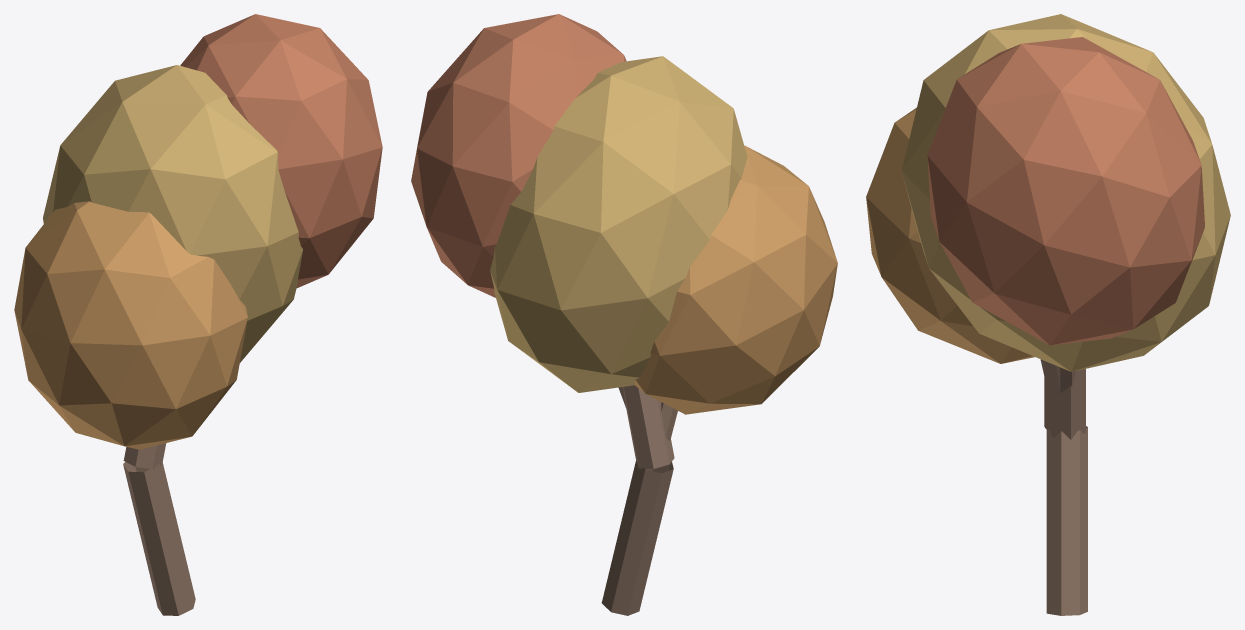
The picture shows the model from 3 angles, left to right: view 1: azimuth 30°, elevation 25°; view 2: azimuth 150°, elevation 25°; view 3: azimuth 270°, elevation 25°; orthographic projection. The views are drawn at different scales.
Visible parts, largest first — view 1: T11; view 2: T11; view 3: T11.
Boxes of the visible parts, x1,y1,x2,y2 form: T11: [14, 14, 382, 615]; T11: [411, 14, 837, 615]; T11: [866, 14, 1230, 615].
Size of the model in its own units: 1.87 by 2.8 by 1.5.
